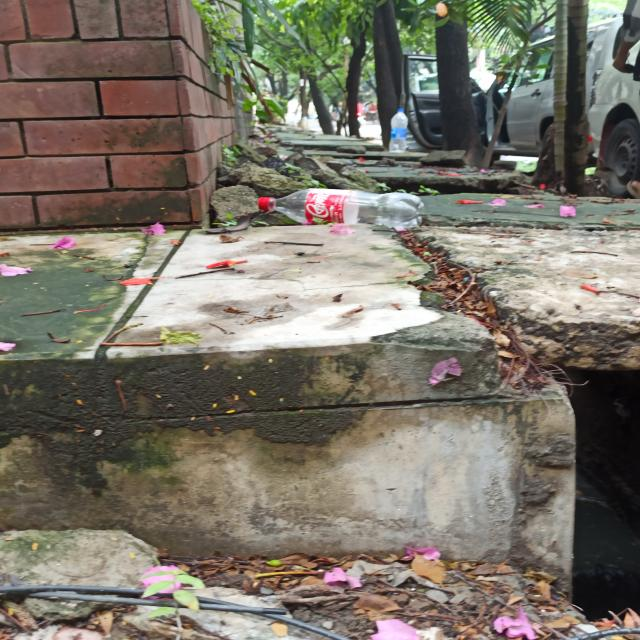artificial_container: (257, 188, 425, 230), (388, 108, 408, 153)
